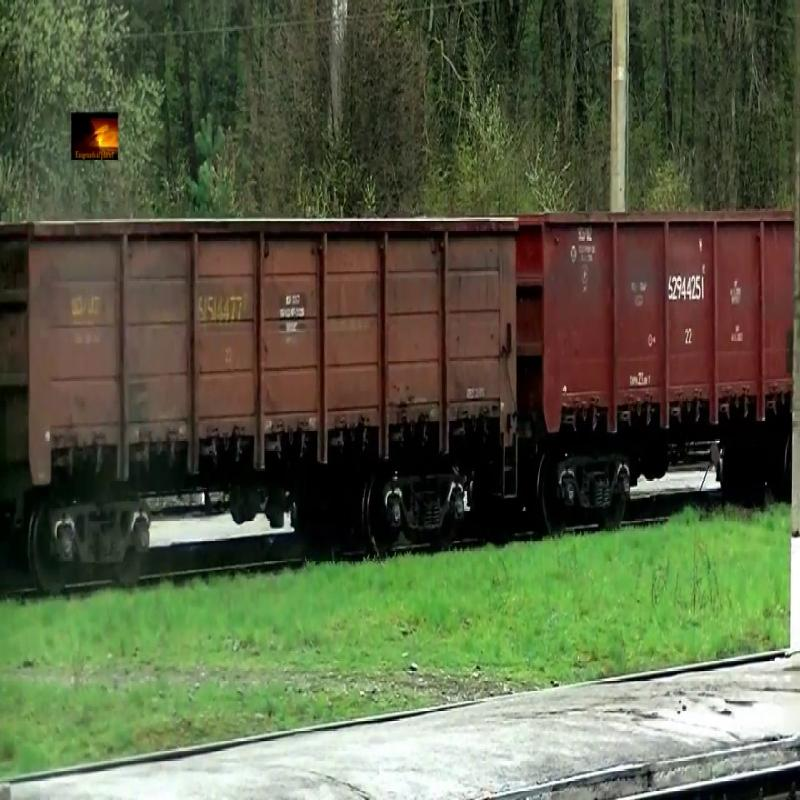train: (1, 215, 520, 490), (520, 210, 800, 439)
